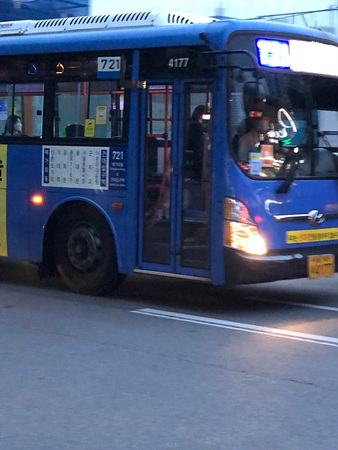entrance: (139, 75, 222, 279)
